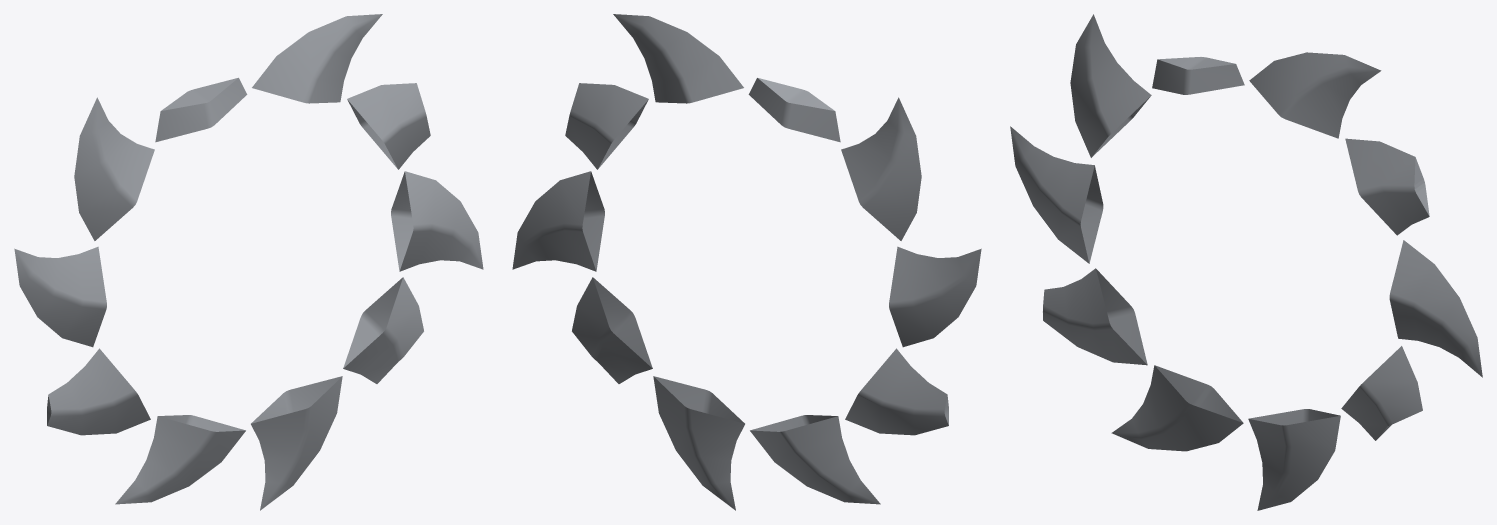
The model's file is Weapon_yuanju01_02_huai.FBX.
3 renders of one model, left to right at view 1: azimuth 30°, elevation 25°; view 2: azimuth 150°, elevation 25°; view 3: azimuth 330°, elevation 25°, orthographic.
Parts seen in each view (by area): view 1: Weapon_yuanju01_02_huai; view 2: Weapon_yuanju01_02_huai; view 3: Weapon_yuanju01_02_huai.
Boxes of the visible parts, x1,y1,x2,y2 form: Weapon_yuanju01_02_huai: (14,14,483,510); Weapon_yuanju01_02_huai: (512,14,981,510); Weapon_yuanju01_02_huai: (1010,14,1482,510).
Bounding box in the file's own units: 1.85 × 1.78 × 0.1546.
Materials: 1 (1 with a texture image).
